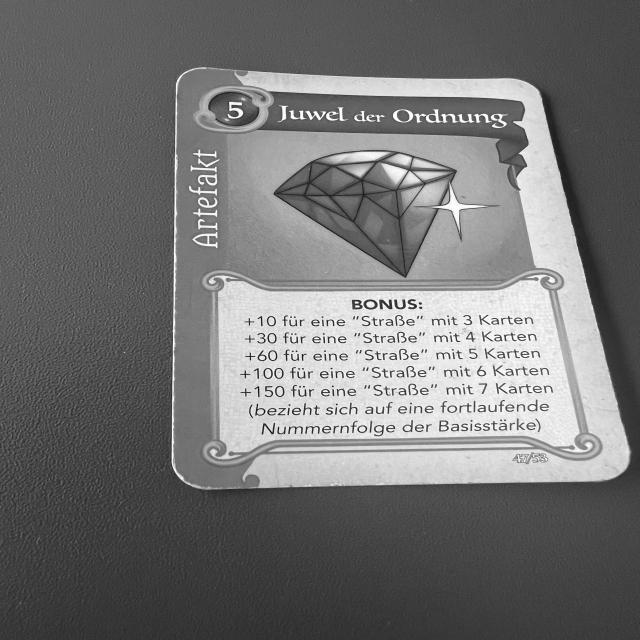Gem Of Order: (167, 66, 638, 493)
